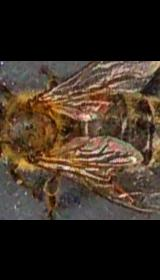varroa_mite: (82, 80, 110, 113)
